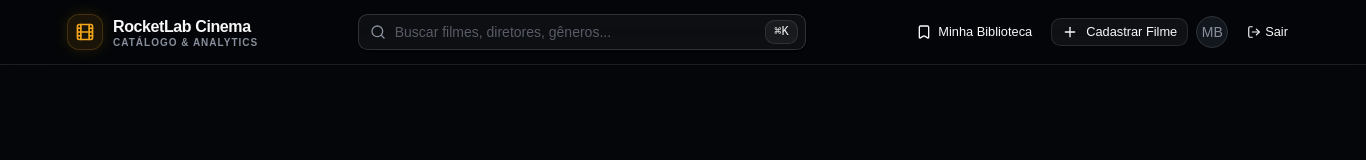
Test: Navbar component › exibe avatar com iniciais do primeiro e último nome e revela nome e role no hover quando autenticado
The width and height of the screenshot is (1366, 160).
Ao passar o mouse sobre o avatar, o tooltip deve revelar nome e role
Hover over the element named "Perfil do usuário": (1212, 32) top-left (1196, 16), bottom-right (1228, 48)
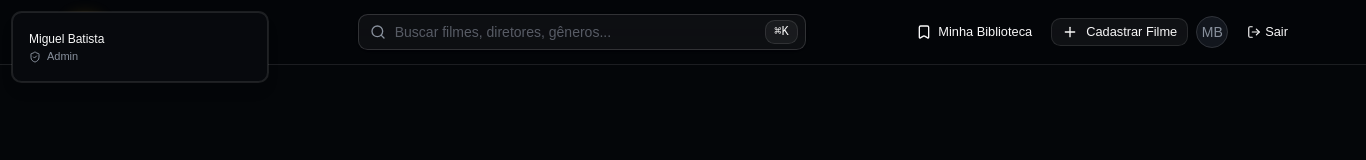
Check: the text "Miguel Batista" is shown, box top-left (29, 32), bottom-right (104, 46)
Check: the text "admin" is shown, box top-left (47, 49), bottom-right (78, 65)
